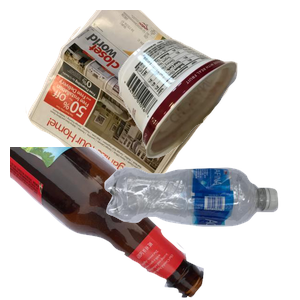glass: (10, 147, 207, 300)
paper: (23, 10, 245, 190)
plastic: (102, 165, 300, 300)
trash: (116, 36, 300, 187)
